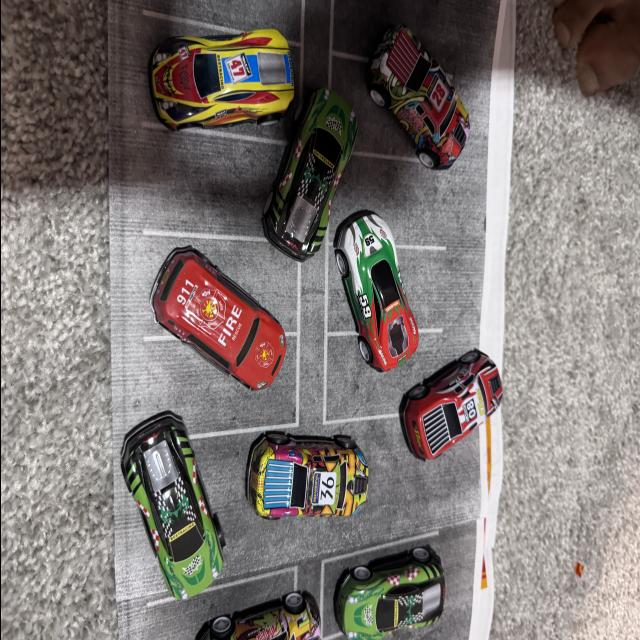car: (113, 15, 306, 150), (128, 255, 300, 389), (108, 400, 214, 606), (399, 326, 528, 486), (334, 210, 454, 378), (272, 85, 364, 279), (353, 52, 497, 166), (254, 437, 362, 547), (324, 235, 394, 391), (357, 526, 449, 640), (198, 587, 318, 640)
